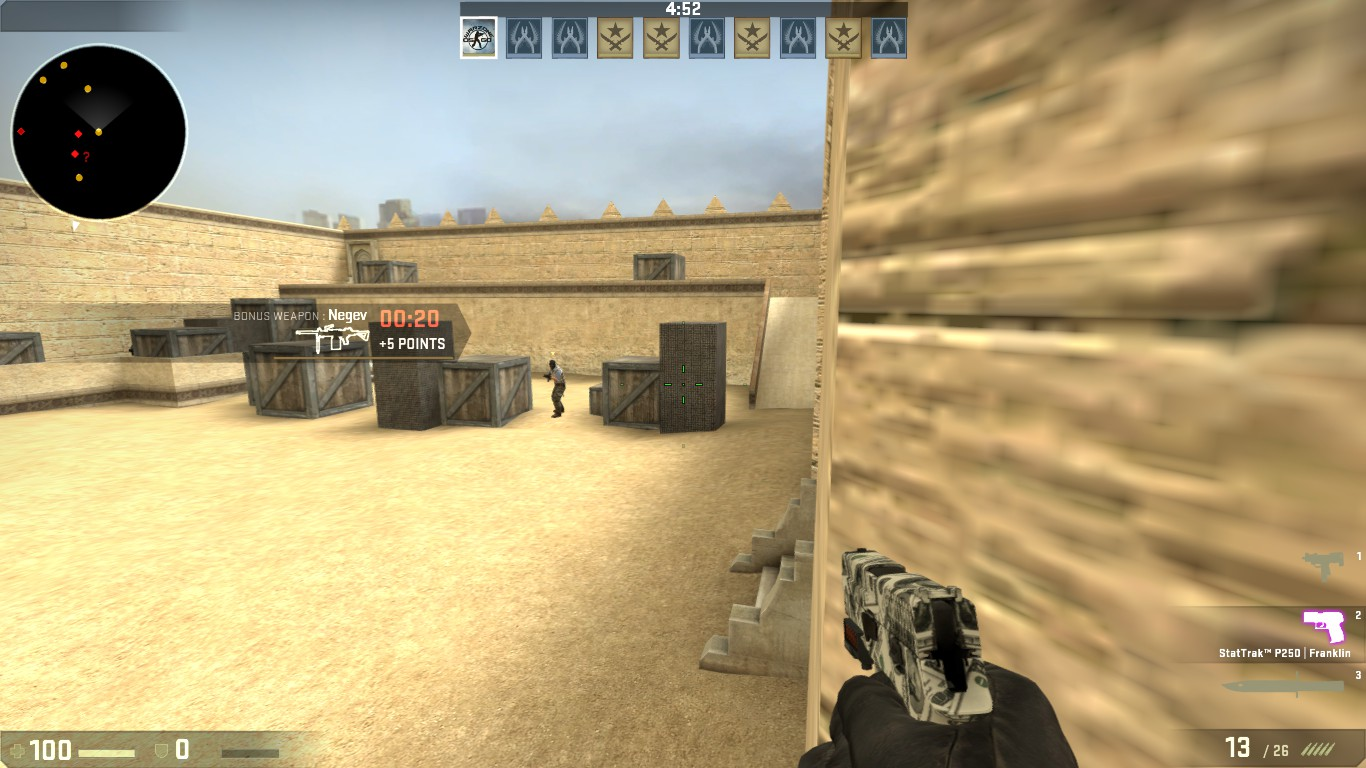t: (546, 357, 567, 418)
th: (548, 358, 558, 370)
